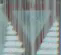Give way: (4, 2, 52, 46)
